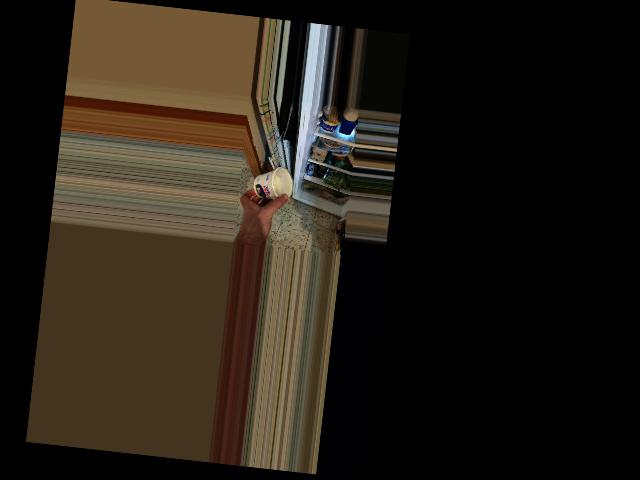cotage: (252, 166, 286, 205)
